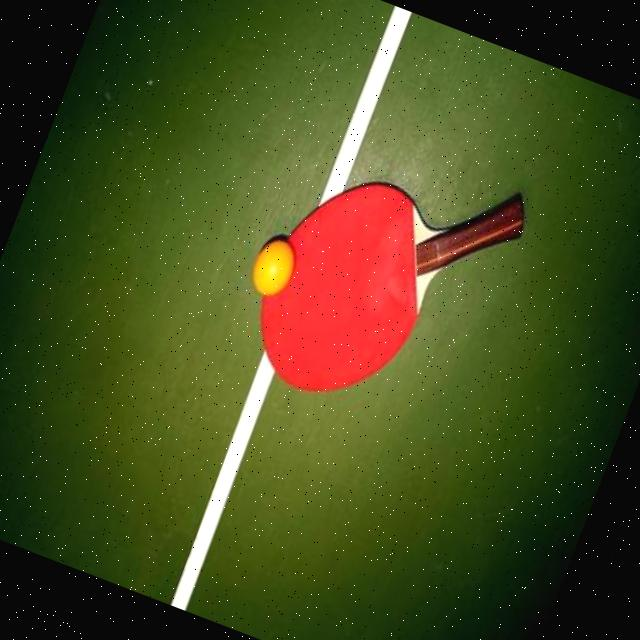ping-pong-ball: (242, 231, 306, 307)
